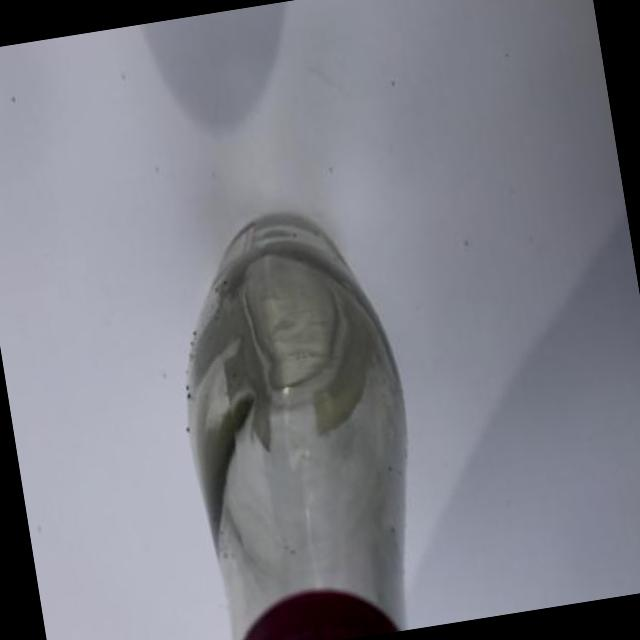chai_thuy_tinh: (188, 218, 408, 640)
